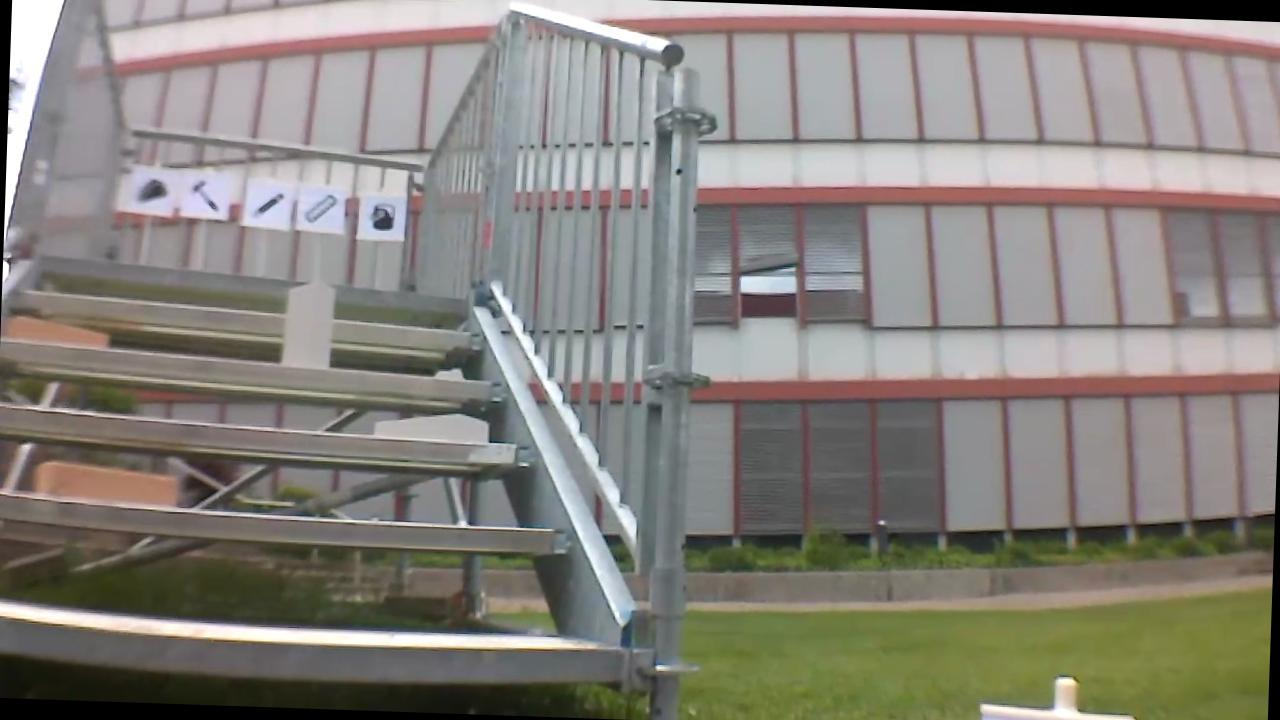brick: (33, 461, 174, 507), (283, 283, 331, 369), (6, 316, 105, 352), (376, 412, 486, 444)
bucket: (362, 198, 401, 235)
edge: (14, 289, 484, 351), (40, 254, 465, 314)
hammer: (186, 176, 224, 216)
pencil: (249, 187, 286, 225)
ruler: (302, 190, 340, 229)
taco: (133, 174, 169, 208)
